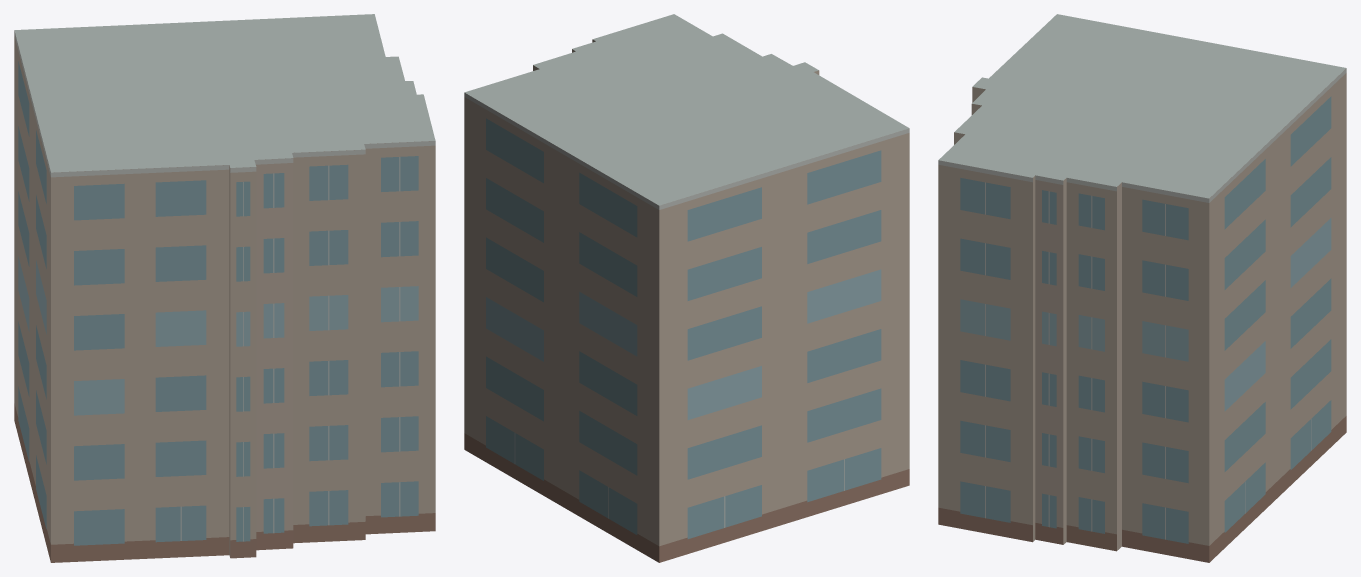
File: survey-upis-32878541.glb
3 views of the same model, side by side, from view 1: azimuth 30°, elevation 25°; view 2: azimuth 150°, elevation 25°; view 3: azimuth 270°, elevation 25° (orthographic). The views are drawn at different scales.
Parts seen in each view (by area): view 1: survey-upis-32878541.tmp; view 2: survey-upis-32878541.tmp; view 3: survey-upis-32878541.tmp.
Boxes of the visible parts, <box> form: survey-upis-32878541.tmp: <box>14,14,435,562</box>; survey-upis-32878541.tmp: <box>464,14,909,562</box>; survey-upis-32878541.tmp: <box>938,14,1346,562</box>.
Size of the model in its own units: 21.52 by 19.8 by 20.12.
